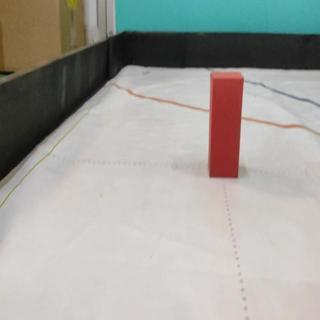redbox: (209, 69, 244, 179)
